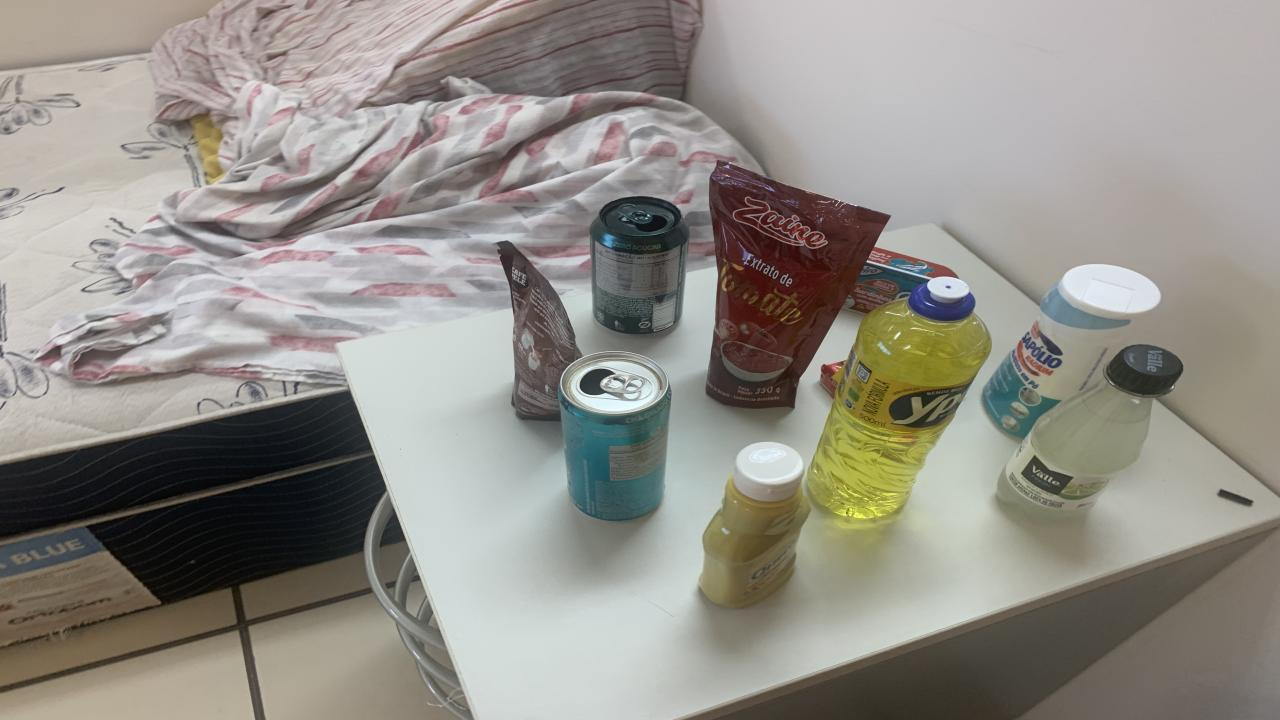Cleaner-Cleanup_Items: (982, 264, 1160, 439)
Coffee-Pantry_Items: (498, 242, 582, 420)
Detergent-Cleanup_Items: (808, 278, 992, 518)
Guarana_Can-Drinks: (590, 197, 690, 334)
Mustard-Pantry_Items: (700, 442, 810, 608)
Soap-Cleanup_Items: (820, 362, 845, 396)
Soda-Drinks: (998, 345, 1182, 516)
Tea-Drinks: (558, 351, 672, 521)
Tomato_Sauce-Pantry_Items: (705, 161, 888, 407)
Tuna_Can-Pantry_Items: (845, 248, 955, 313)
